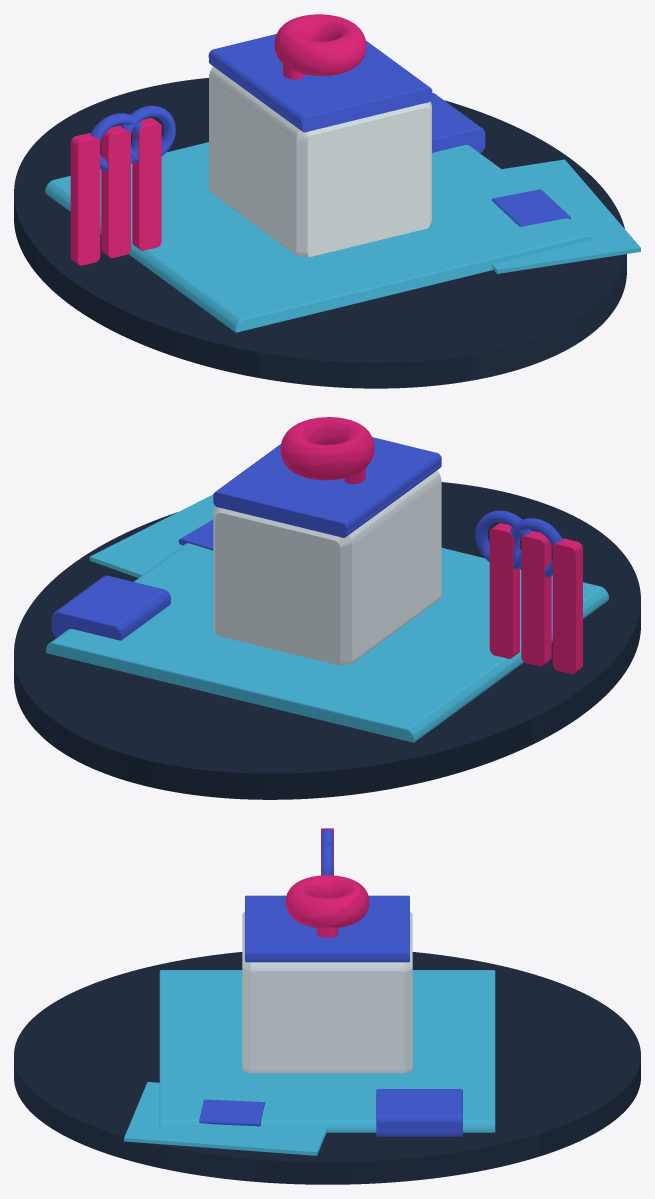
File: 0749_先秦图鉴_符节.glb
The picture shows the model from 3 angles, top to bottom: view 1: azimuth 30°, elevation 25°; view 2: azimuth 150°, elevation 25°; view 3: azimuth 270°, elevation 25°; orthographic projection. The views are drawn at different scales.
Parts seen in each view (by area): view 1: card_0749; view 2: card_0749; view 3: card_0749.
Part boxes in pixels (x1,y1,x2,y2): card_0749: [14, 14, 640, 388]; card_0749: [14, 417, 640, 799]; card_0749: [14, 828, 640, 1184].
Bounding box in the file's own units: 2.42 × 1 × 2.99.
